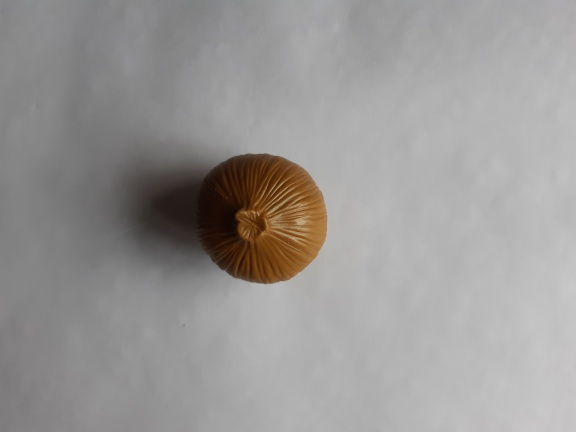onion: (190, 148, 333, 293)
